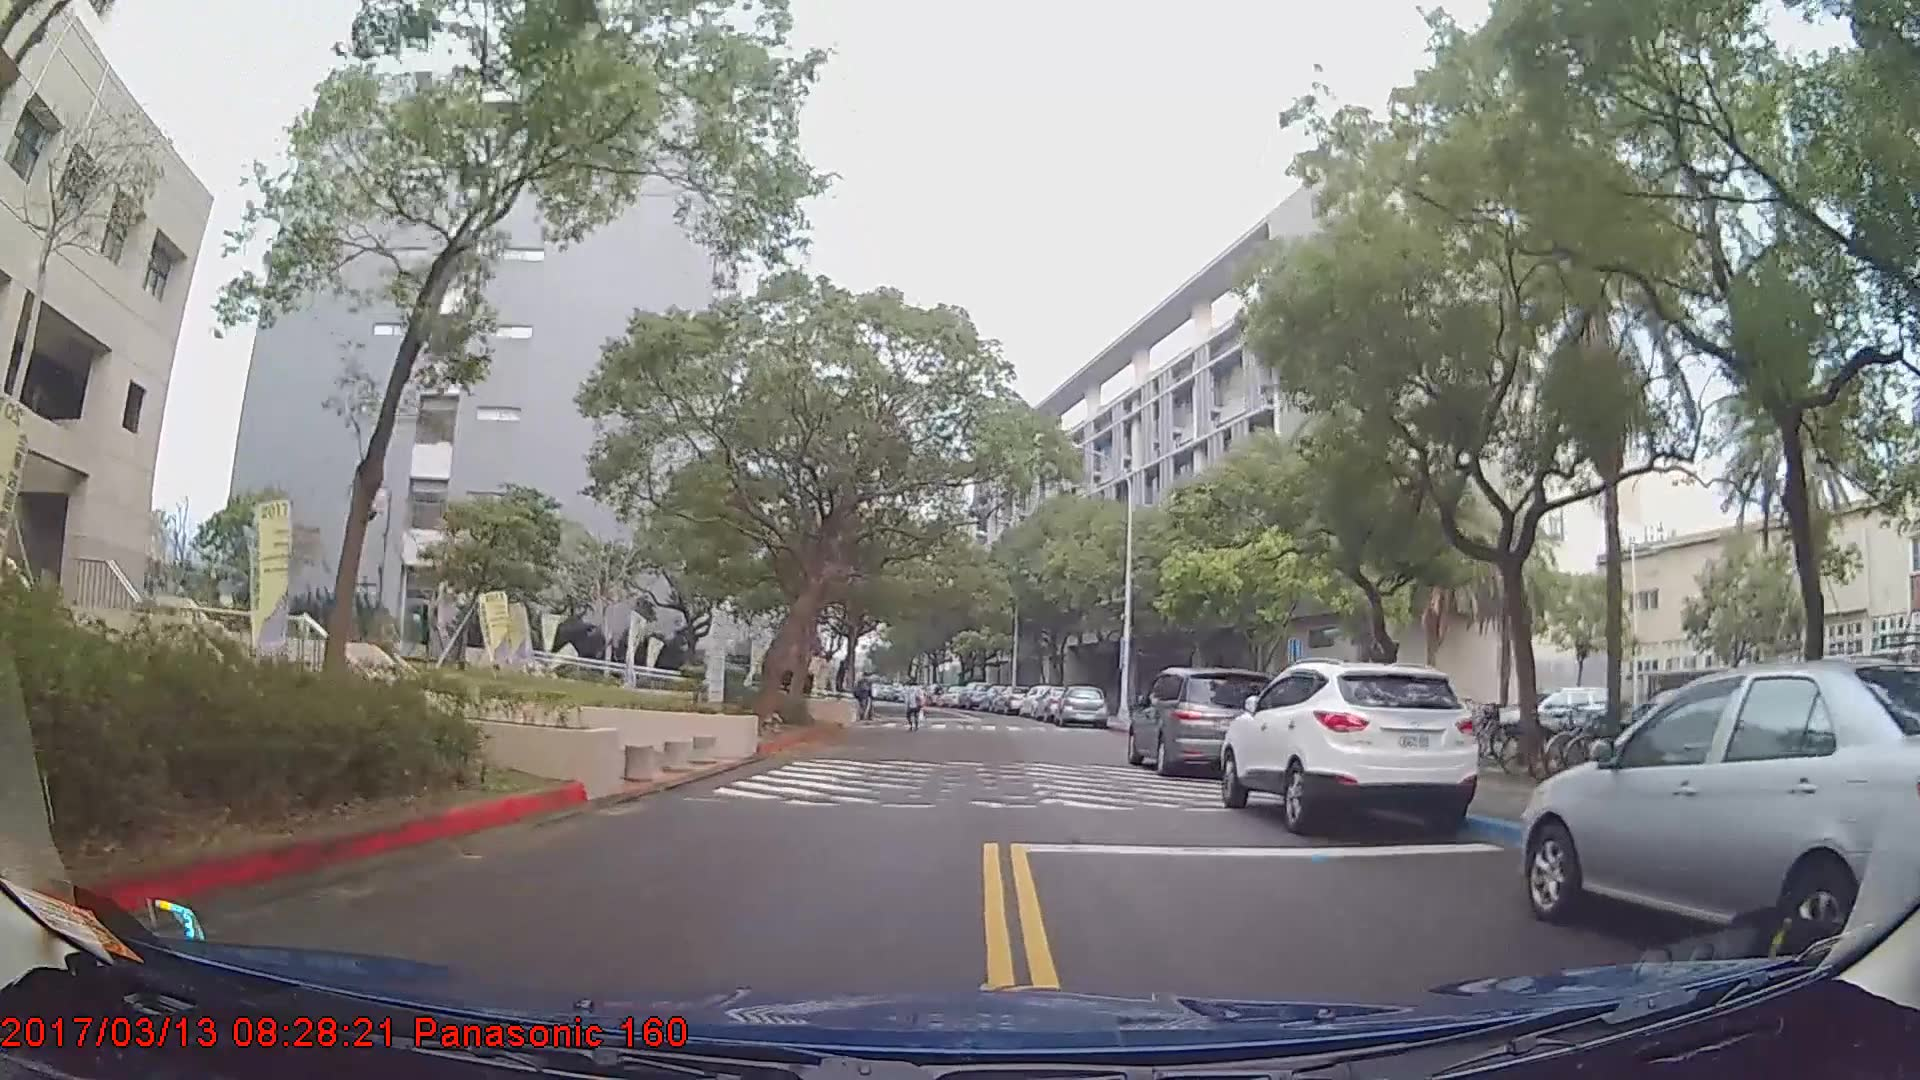pedestrian: (897, 679, 924, 733), (855, 673, 877, 724)
vehicle: (1523, 657, 1920, 962), (1220, 658, 1481, 838), (1126, 666, 1281, 775), (1486, 684, 1618, 744), (1056, 680, 1107, 729), (955, 679, 990, 709)
